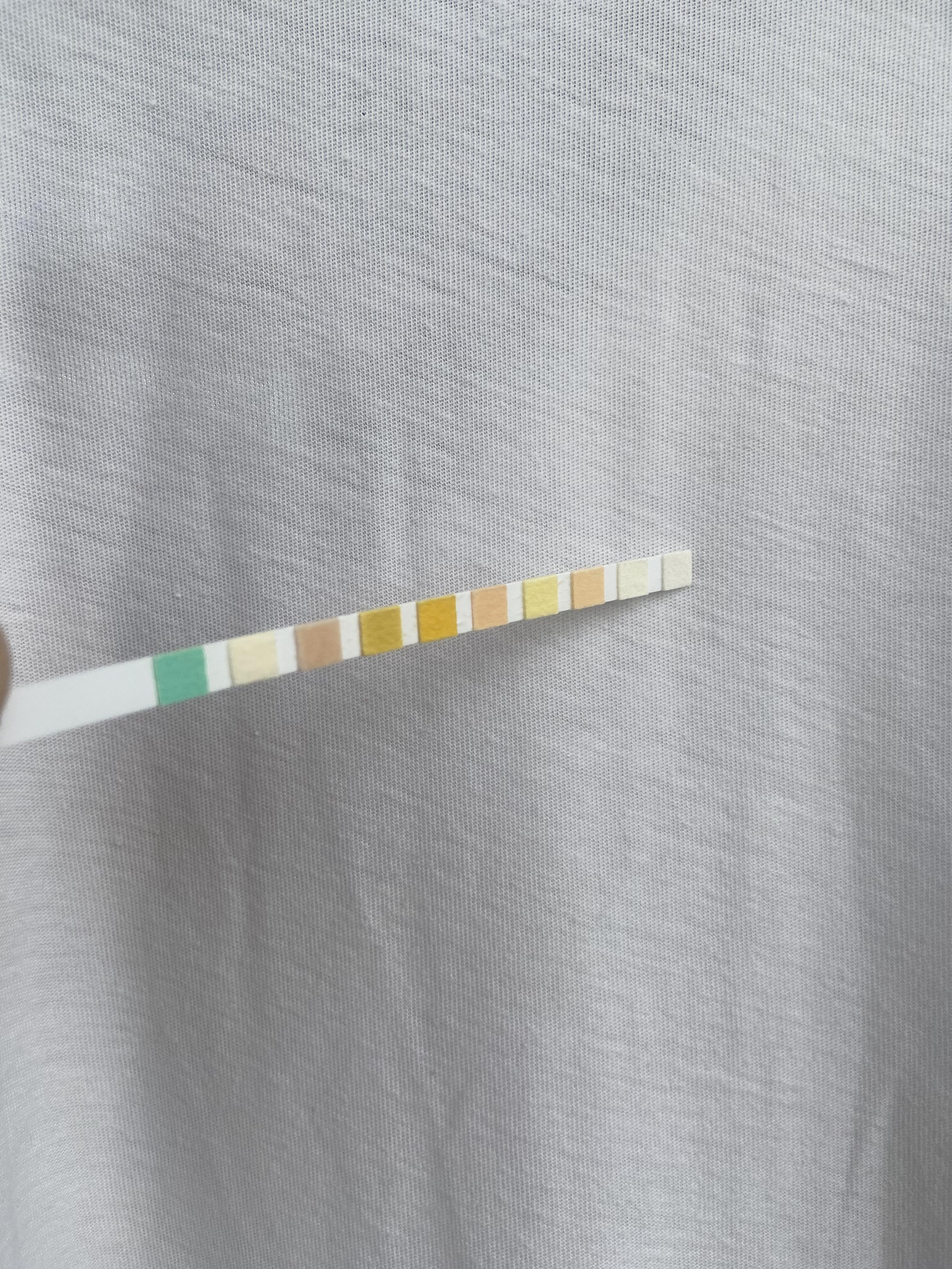Bilirubin: (235, 639, 271, 677)
Blood: (420, 603, 455, 634)
Glucose: (160, 655, 202, 695)
Ketone: (300, 625, 337, 664)
Leukocytes: (665, 555, 692, 585)
Nitrite: (620, 563, 647, 594)
Protein: (528, 582, 557, 613)
SpGravity: (364, 612, 400, 646)
Urobilinogen: (575, 574, 604, 603)
pH: (475, 591, 507, 623)
strip: (17, 551, 693, 741)
